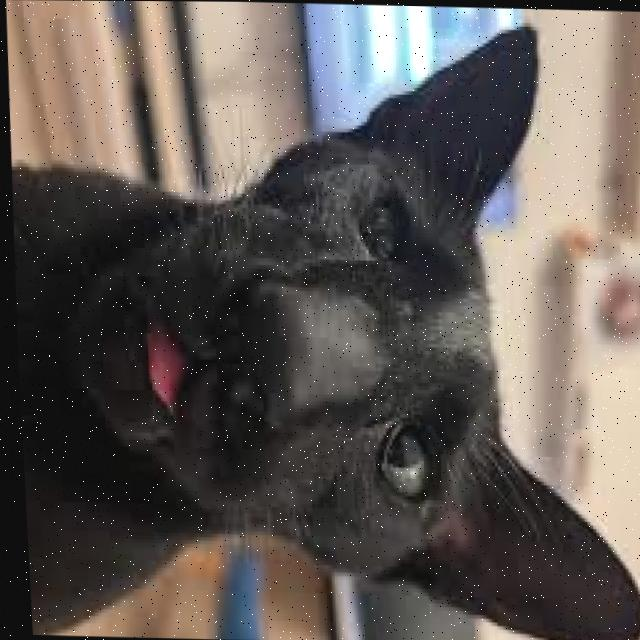Oriental: (0, 1, 640, 640)
